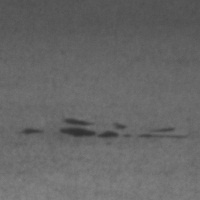inclusion: (52, 116, 191, 144), (16, 124, 49, 139)
